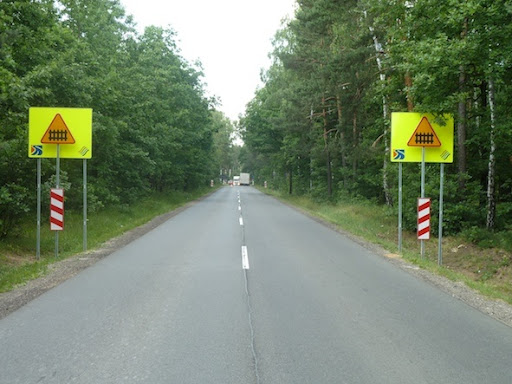a9: (47, 128, 69, 143), (413, 131, 436, 145)
